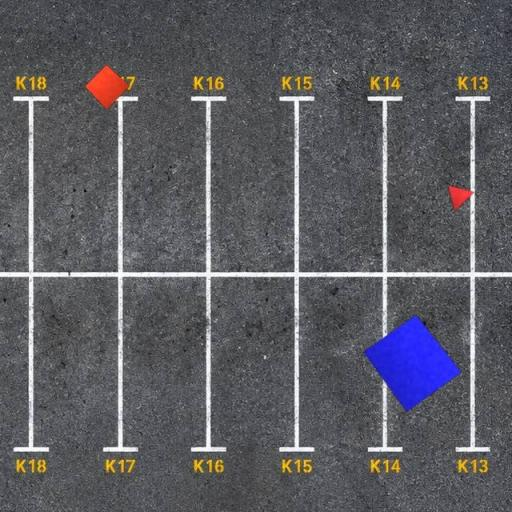BLUE_SQUARE: (364, 314, 462, 412)
RED_SQUARE: (84, 64, 130, 110)
